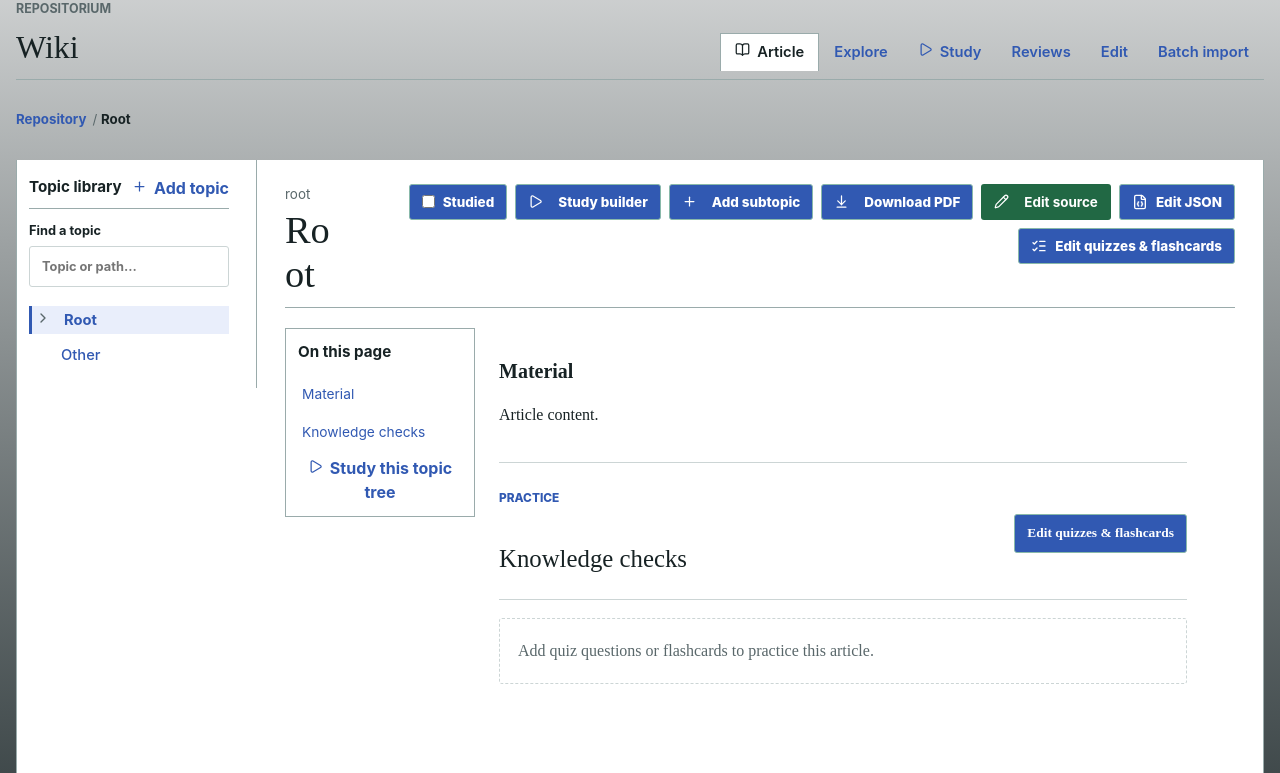
marks only the selected article, keeps the marker through navigation/search/reload, and can unmark it
Later steps or results of the test are not shown.
What coordinates should you click on to do the following:
click the checkbox labelled "Studied"
I would click on:
 (428, 202)
Its box is [422,195,435,208].
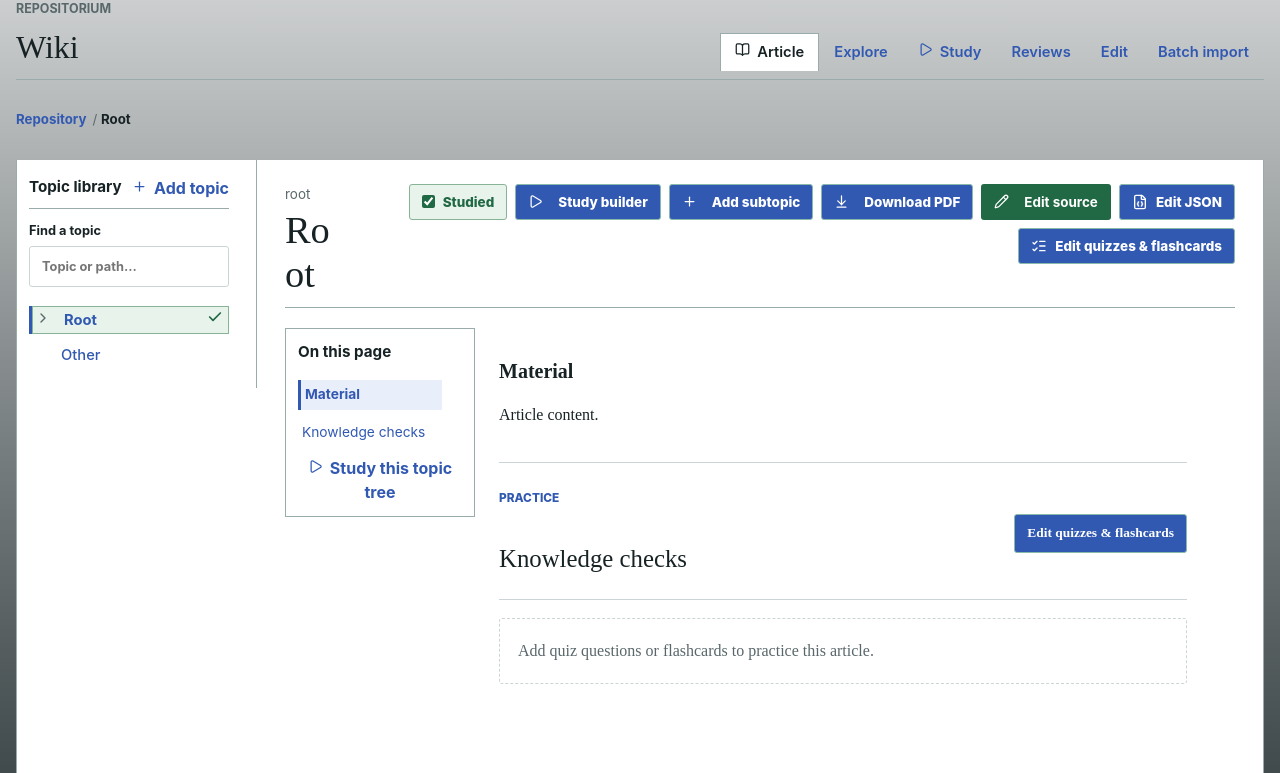
Expected: the checkbox labelled "Studied" is checked, [422,195,435,208]
What coordinates should you click on to do the following:
click the button named "Expand topic"
I would click on:
 (43, 320)
Its box is [32,306,54,334].
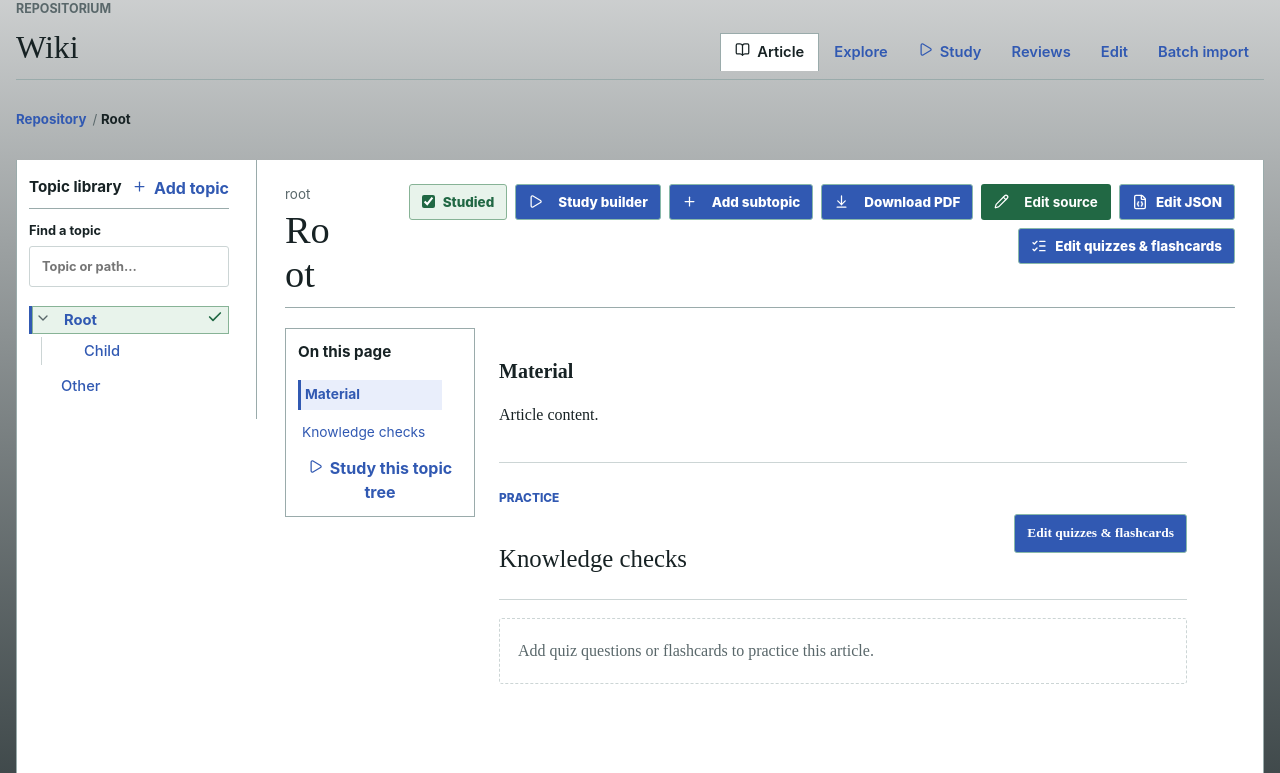
What coordinates should you click on to do the following:
click the button "Child"
I would click on:
 (154, 351)
Its box is [78,337,229,365].
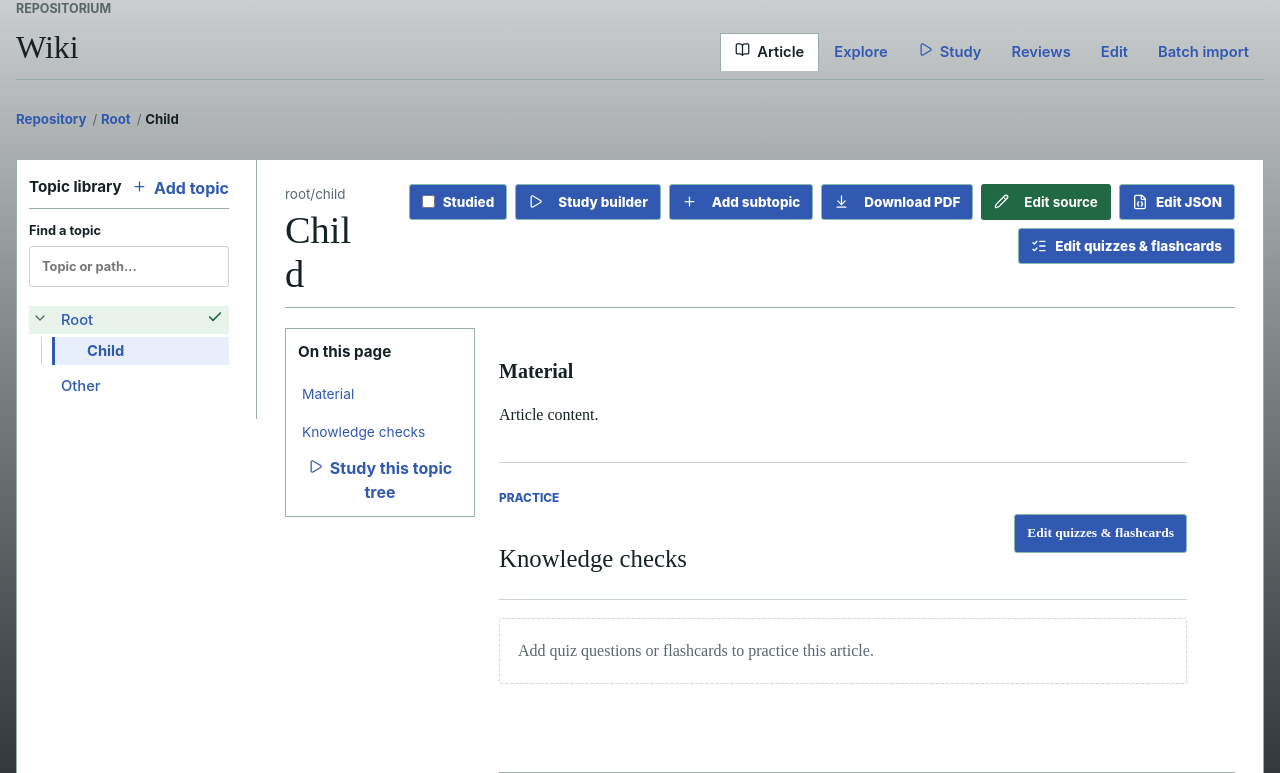
Expected: the checkbox labelled "Studied" is not checked, [422,195,435,208]
